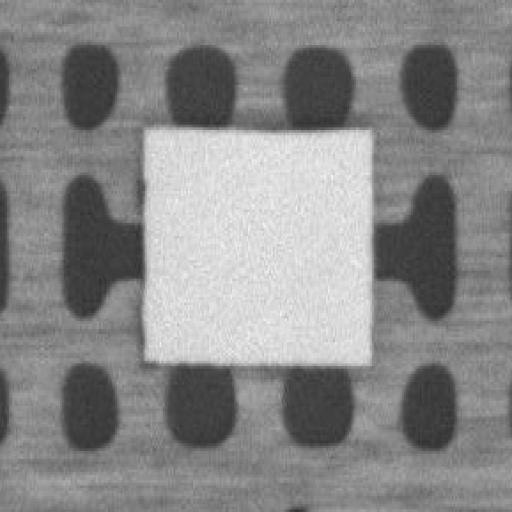DIE_BROKEN: (135, 167, 145, 212)
